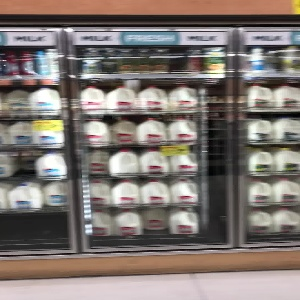void: (1, 209, 67, 248)
